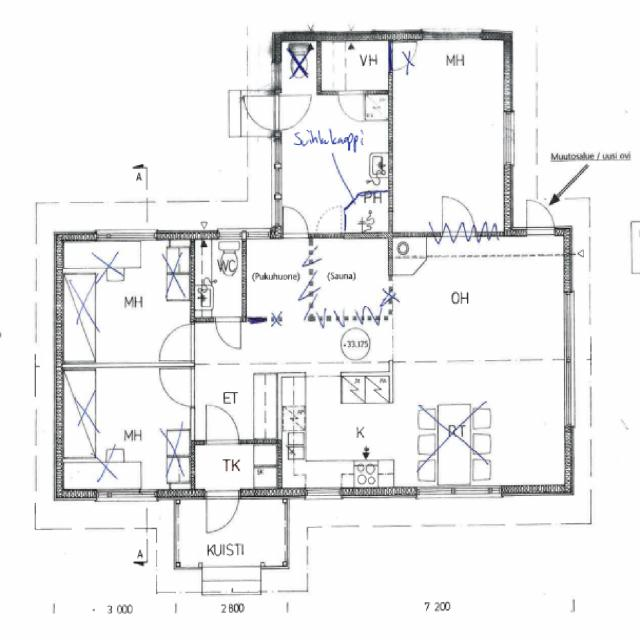door: (206, 488, 239, 534), (156, 369, 194, 408), (156, 323, 195, 360), (243, 96, 283, 130), (274, 96, 313, 130), (206, 404, 239, 444), (527, 201, 555, 241), (215, 318, 240, 350), (284, 208, 308, 240), (339, 90, 363, 122)
